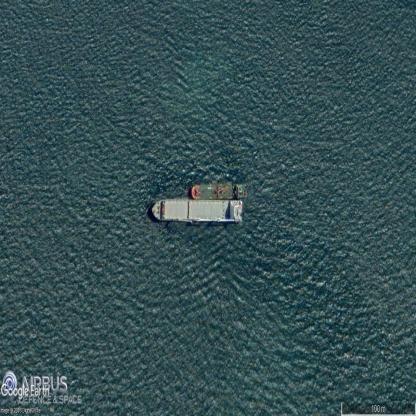ship: (152, 200, 242, 222), (192, 184, 247, 199)
